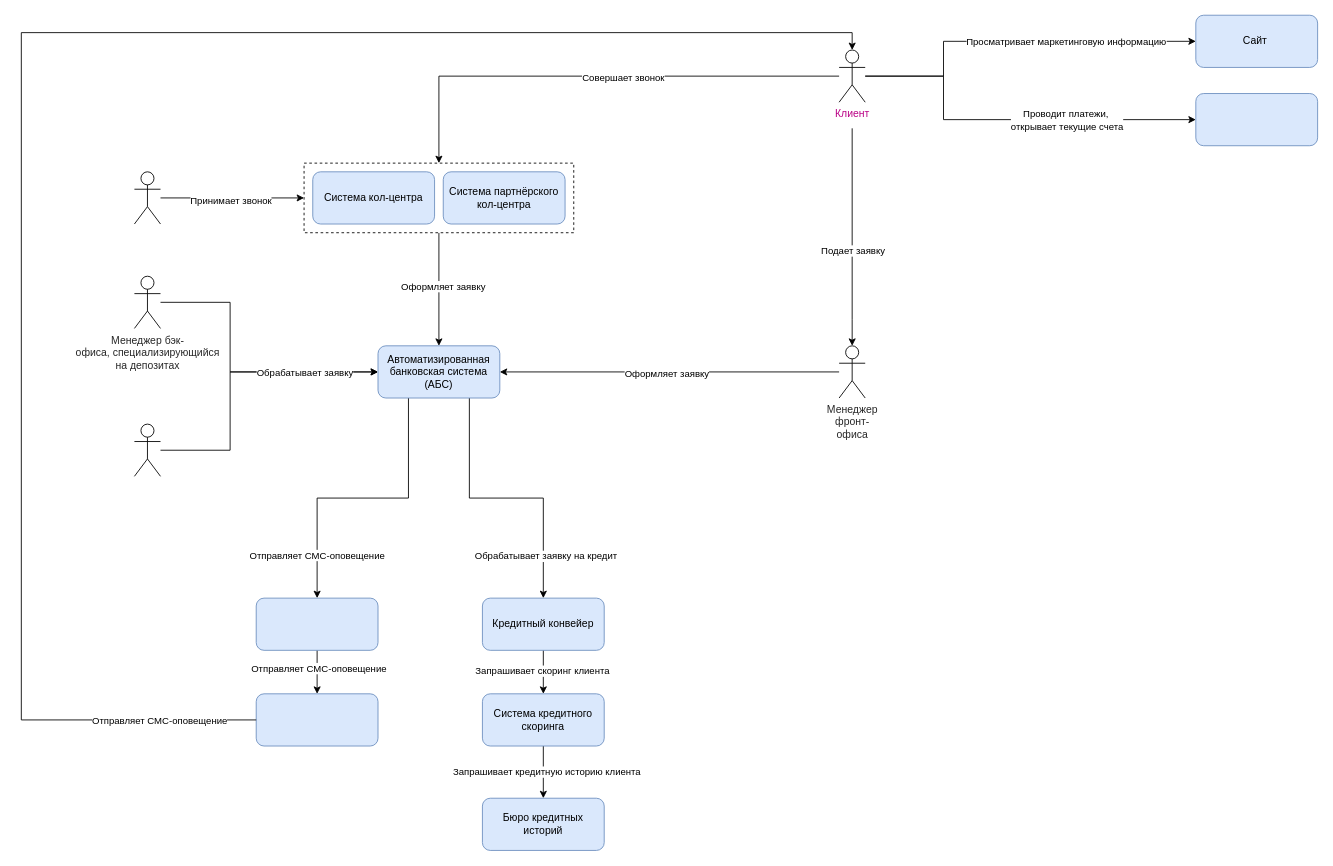
This 1333x866 diagram has some shape labels left out. Each missing label, with the centre of its shape:
"Интернет-банк" goes at point 1256,119.
"Менеджер бэк-офиса, специализирующийся на кредитах" goes at point 147,449.
"Оператор" goes at point 147,197.
"СМС-шлюз телеком-оператора" goes at point 316,623.
"Телеком-оператор" goes at point 316,719.
